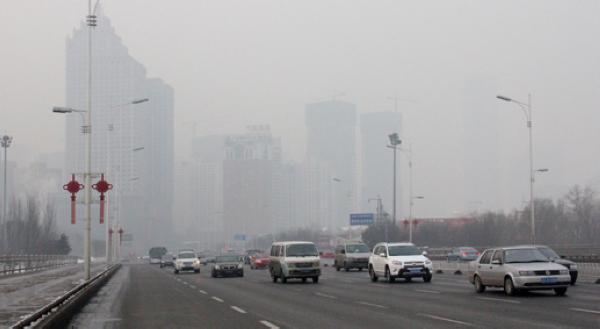bus: (149, 247, 167, 265)
car: (467, 247, 571, 296), (498, 244, 579, 287), (368, 240, 433, 284), (270, 241, 323, 284), (334, 239, 374, 272), (211, 255, 244, 277), (173, 251, 202, 275), (445, 246, 479, 261), (248, 253, 271, 270), (408, 246, 428, 259), (159, 254, 175, 268), (200, 252, 217, 263), (320, 250, 335, 259), (195, 256, 208, 265), (142, 254, 154, 260), (121, 255, 130, 262)
